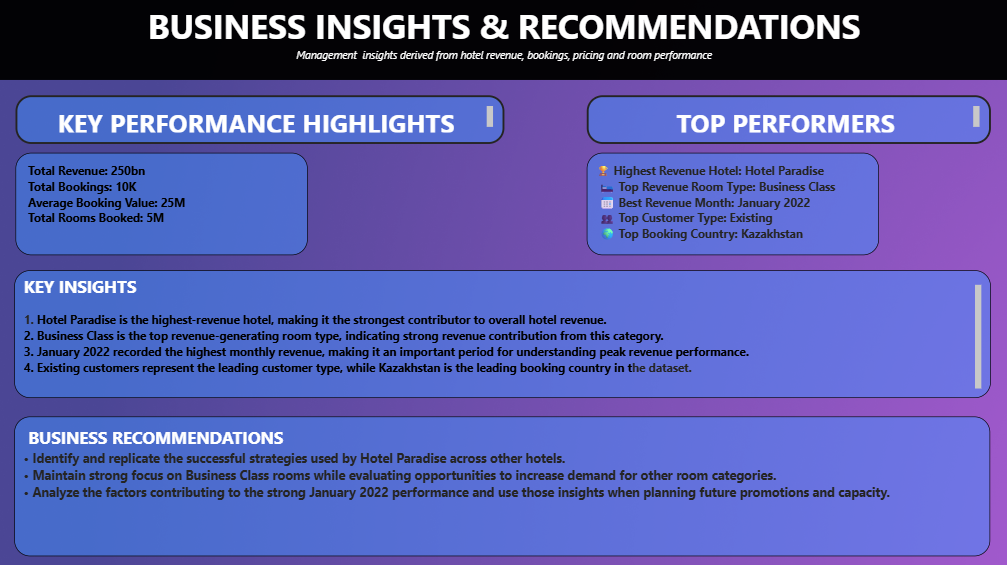

The dashboard page shown, as its layout file describes it:
{"tool":"powerbi","page":{"name":"Business Insights","canvas":[1280,720],"ordinal":2},"visuals":[{"type":"textbox","box":[0,0,1280.3,102.7],"z":0},{"type":"textbox","box":[21.4,121,618.6,61.6],"z":1000},{"type":"textbox","box":[744.4,121,511.5,61.6],"z":3000},{"type":"textbox","box":[744.7,194.4,369.3,129.6],"z":4000},{"type":"textbox","box":[20.6,343.1,1235.1,161.4],"z":5000},{"type":"textbox","box":[20.6,528.1,1234.5,176.7],"z":6000},{"type":"textbox","box":[22,194.4,369.3,129.6],"z":6001}]}

Visuals, with their boxes in screenshot pixels (x1, y1, x2, y2), scaled from the page's 1280x720 canvas onto the 1007x565 screenshot:
textbox: (0, 0, 1006, 81)
textbox: (17, 95, 504, 143)
textbox: (586, 95, 988, 143)
textbox: (586, 153, 876, 254)
textbox: (16, 269, 988, 396)
textbox: (16, 414, 987, 553)
textbox: (17, 153, 308, 254)
